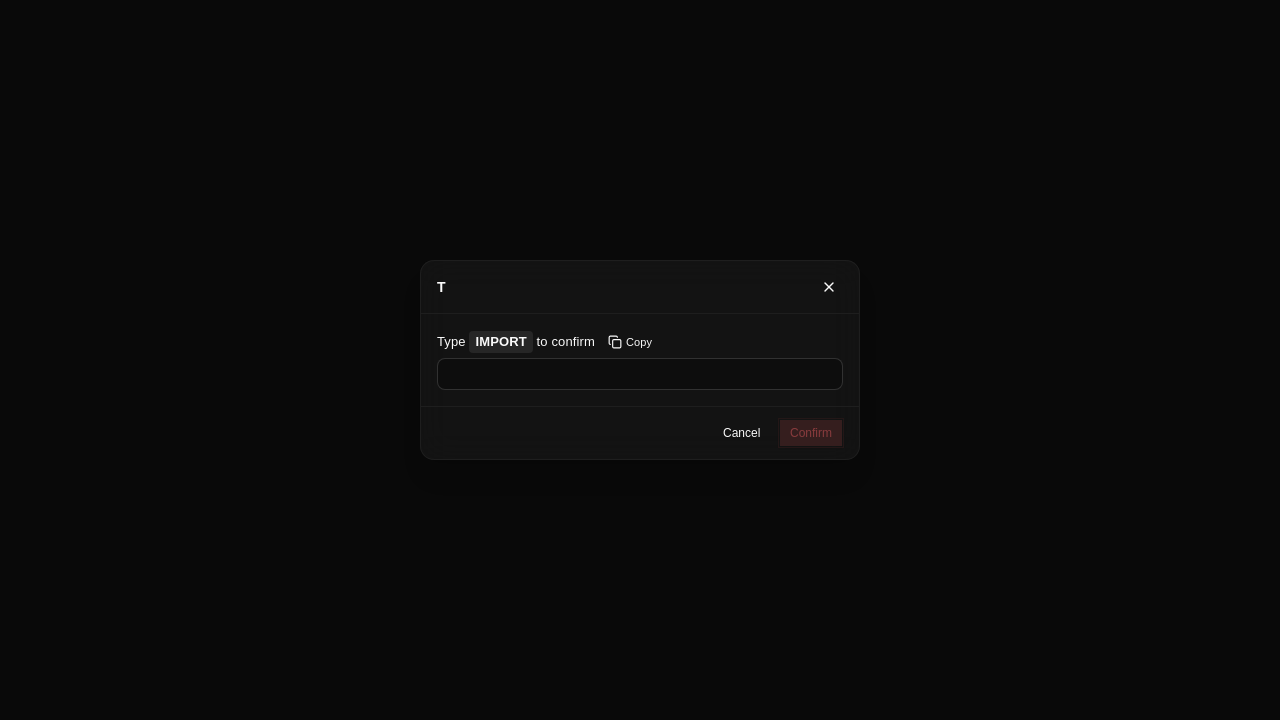
Test case: ConfirmModal — TDD for copy button + pale destructive button › copies IMPORT to clipboard when Copy is clicked
Click the button with aria-label "Copy IMPORT".
click(630, 342)  # box top-left (601, 330), bottom-right (659, 354)
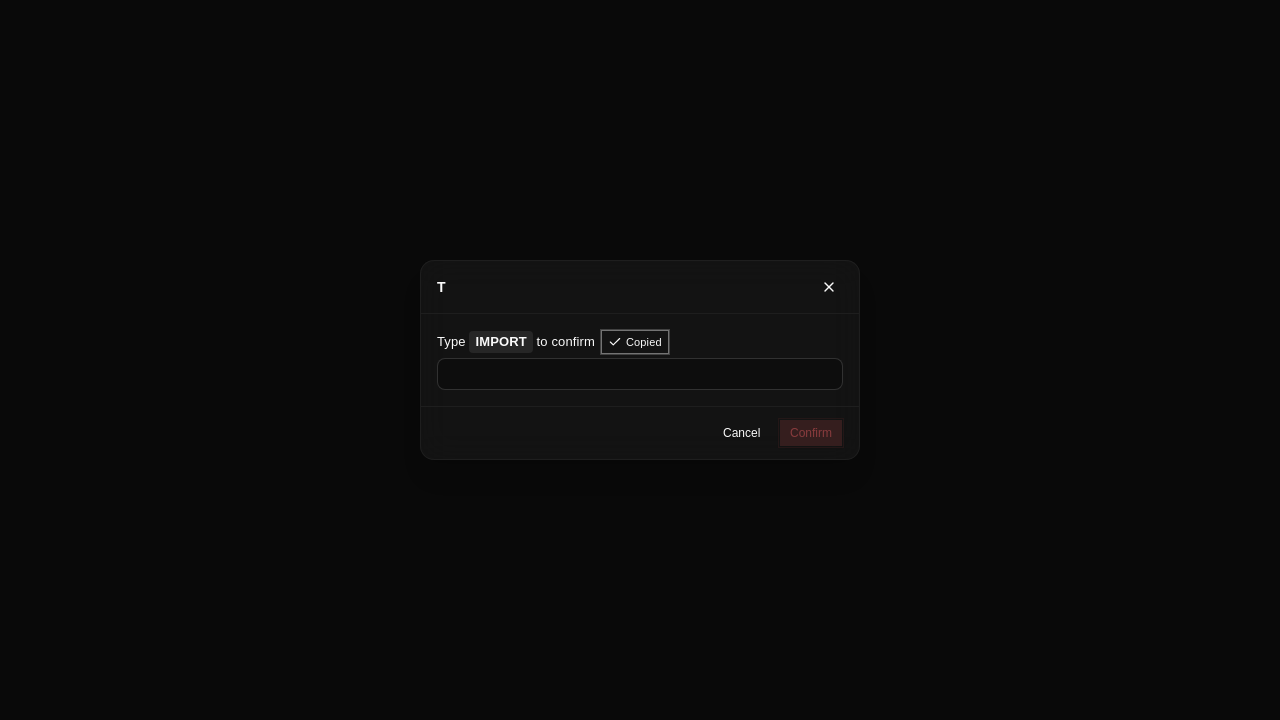
Check: the text "Copied" is shown, box top-left (626, 335), bottom-right (662, 349)
